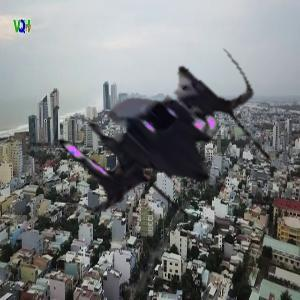drone: (43, 21, 278, 256)
